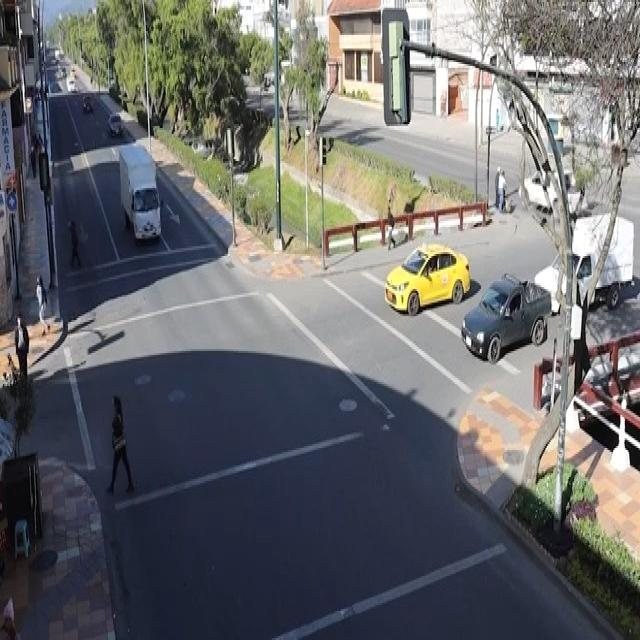CMT: (460, 278, 550, 363)
